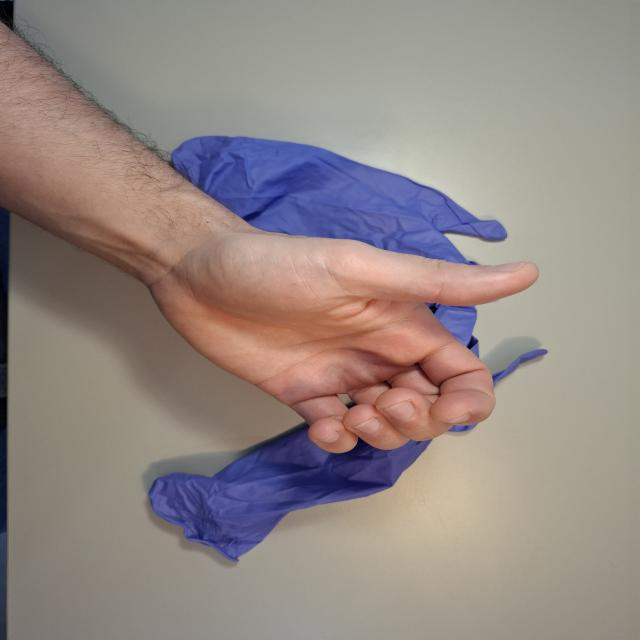glove_off: (132, 207, 542, 456)
